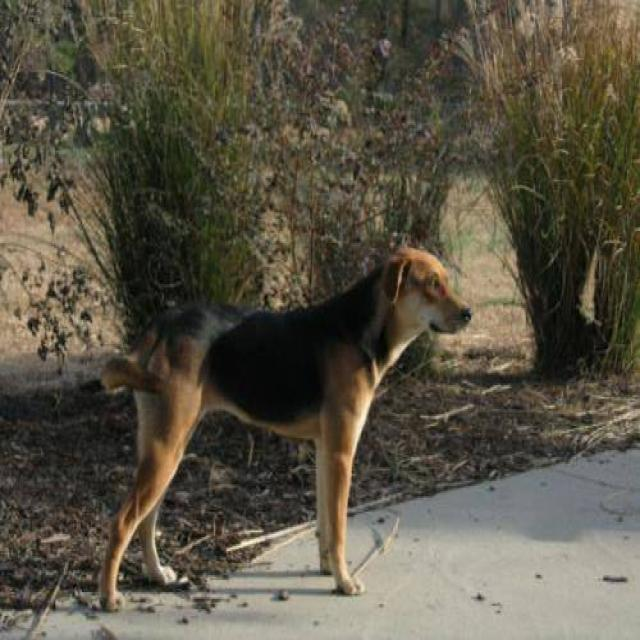dog: (96, 243, 472, 611)
